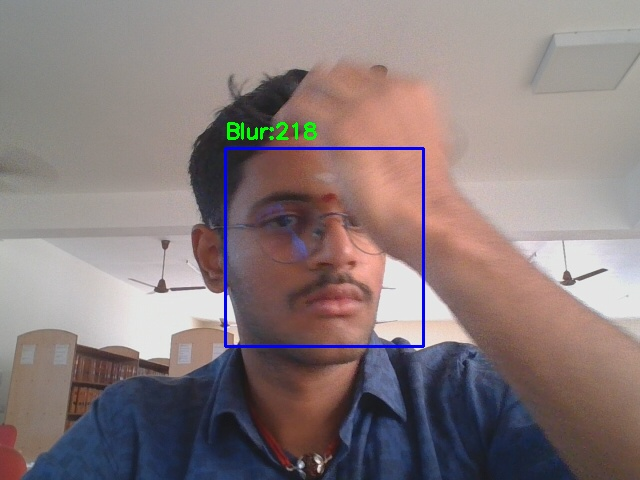real: (225, 148, 423, 346)
